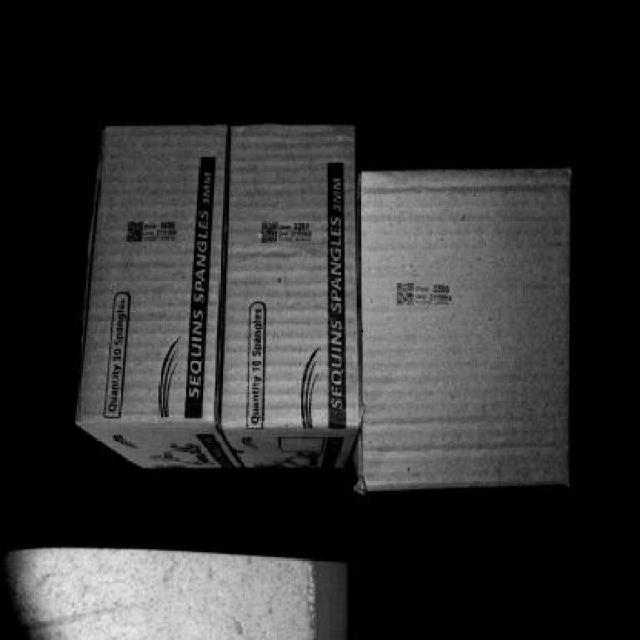cardboxes: (368, 174, 563, 483), (81, 124, 225, 416), (232, 121, 358, 428)
